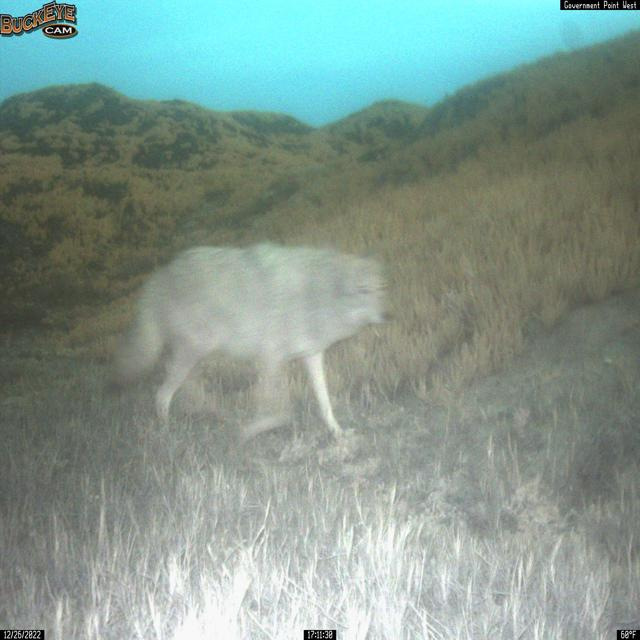coyote: (104, 240, 397, 450)
